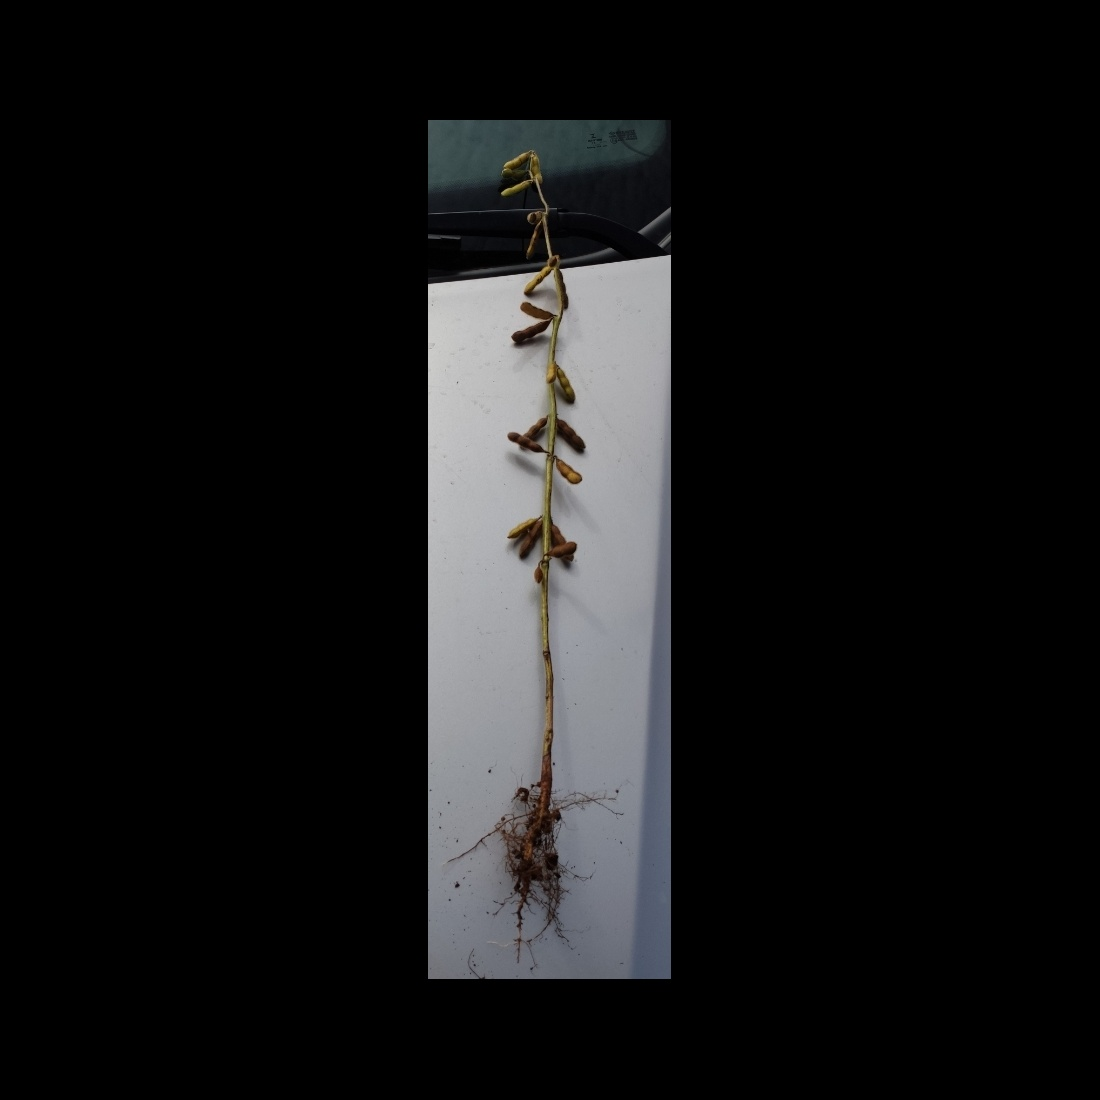pod: (523, 262, 559, 298), (509, 318, 556, 343), (517, 519, 544, 561), (555, 416, 587, 451), (506, 429, 548, 455), (554, 364, 578, 408), (525, 219, 547, 261), (552, 459, 585, 485), (506, 517, 543, 539), (501, 150, 537, 172), (500, 178, 536, 198)
soy: (460, 143, 599, 911)
